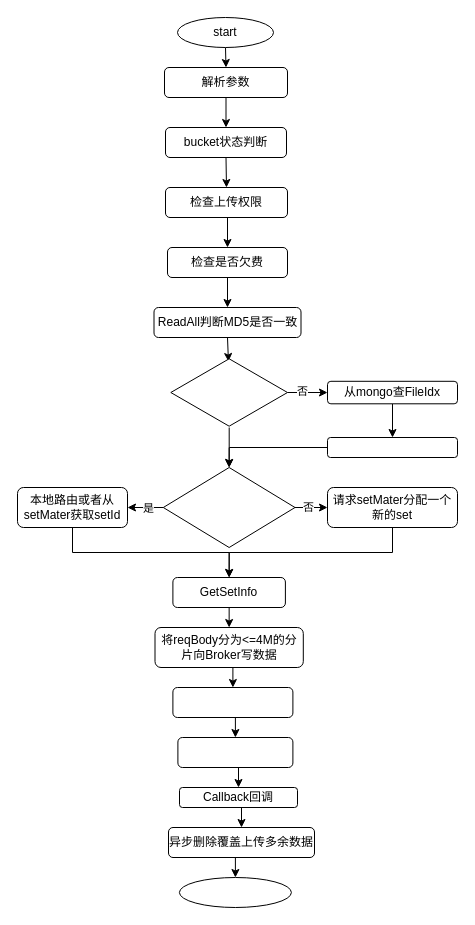
Image size: 475x925. Some labels were removed from this diagram. Each missing label, with the centre of its shape:
"success" belongs at (234,892).
"UseSetInfoCache" belongs at (228,507).
"上传流程中更新db改为insert->update" belongs at (229,392).
"更新文件索引" belongs at (232,702).
"检查覆盖权限是否覆盖" belongs at (392,447).
"计算存储量" belongs at (235,752).
